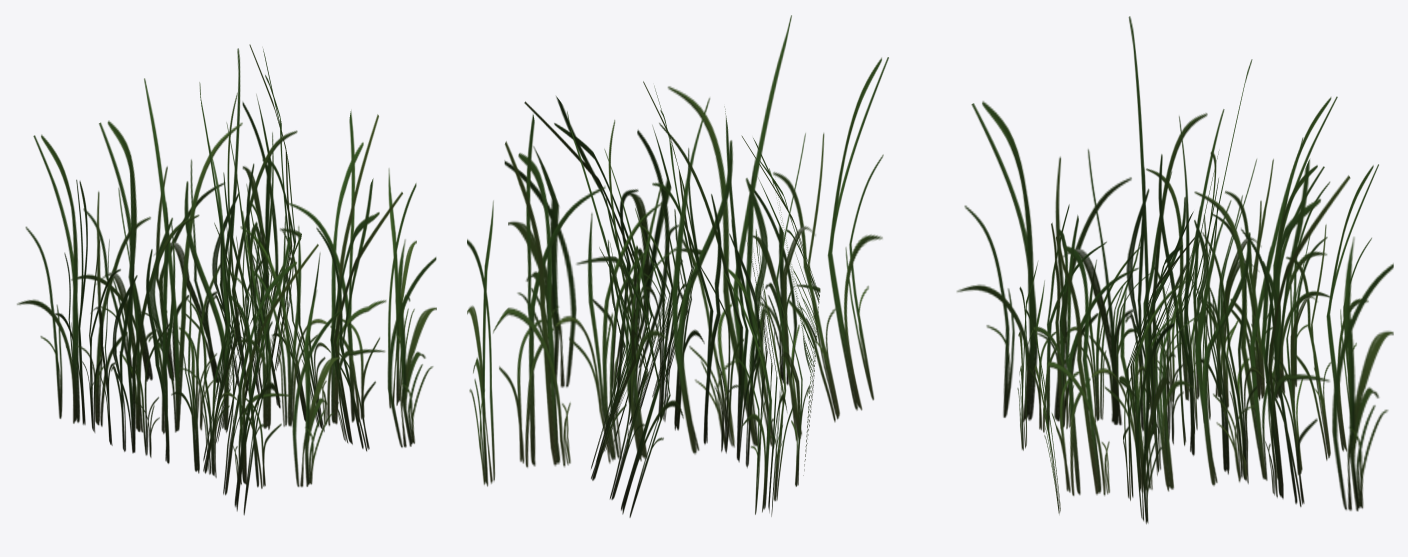
File: grass1.glb
3 renders of one model, left to right at view 1: azimuth 30°, elevation 25°; view 2: azimuth 150°, elevation 25°; view 3: azimuth 270°, elevation 25°, orthographic. The views are drawn at different scales.
Parts seen in each view (by area): view 1: GrassPatch01.005; view 2: GrassPatch01.005; view 3: GrassPatch01.005.
Boxes of the visible parts, x1=… form: GrassPatch01.005: x1=17, y1=44, x2=436, y2=515; GrassPatch01.005: x1=467, y1=15, x2=888, y2=517; GrassPatch01.005: x1=957, y1=16, x2=1393, y2=524.
Bounding box in the file's own units: 0.7484 × 0.8547 × 0.8373.
1 material, 1 textured.
